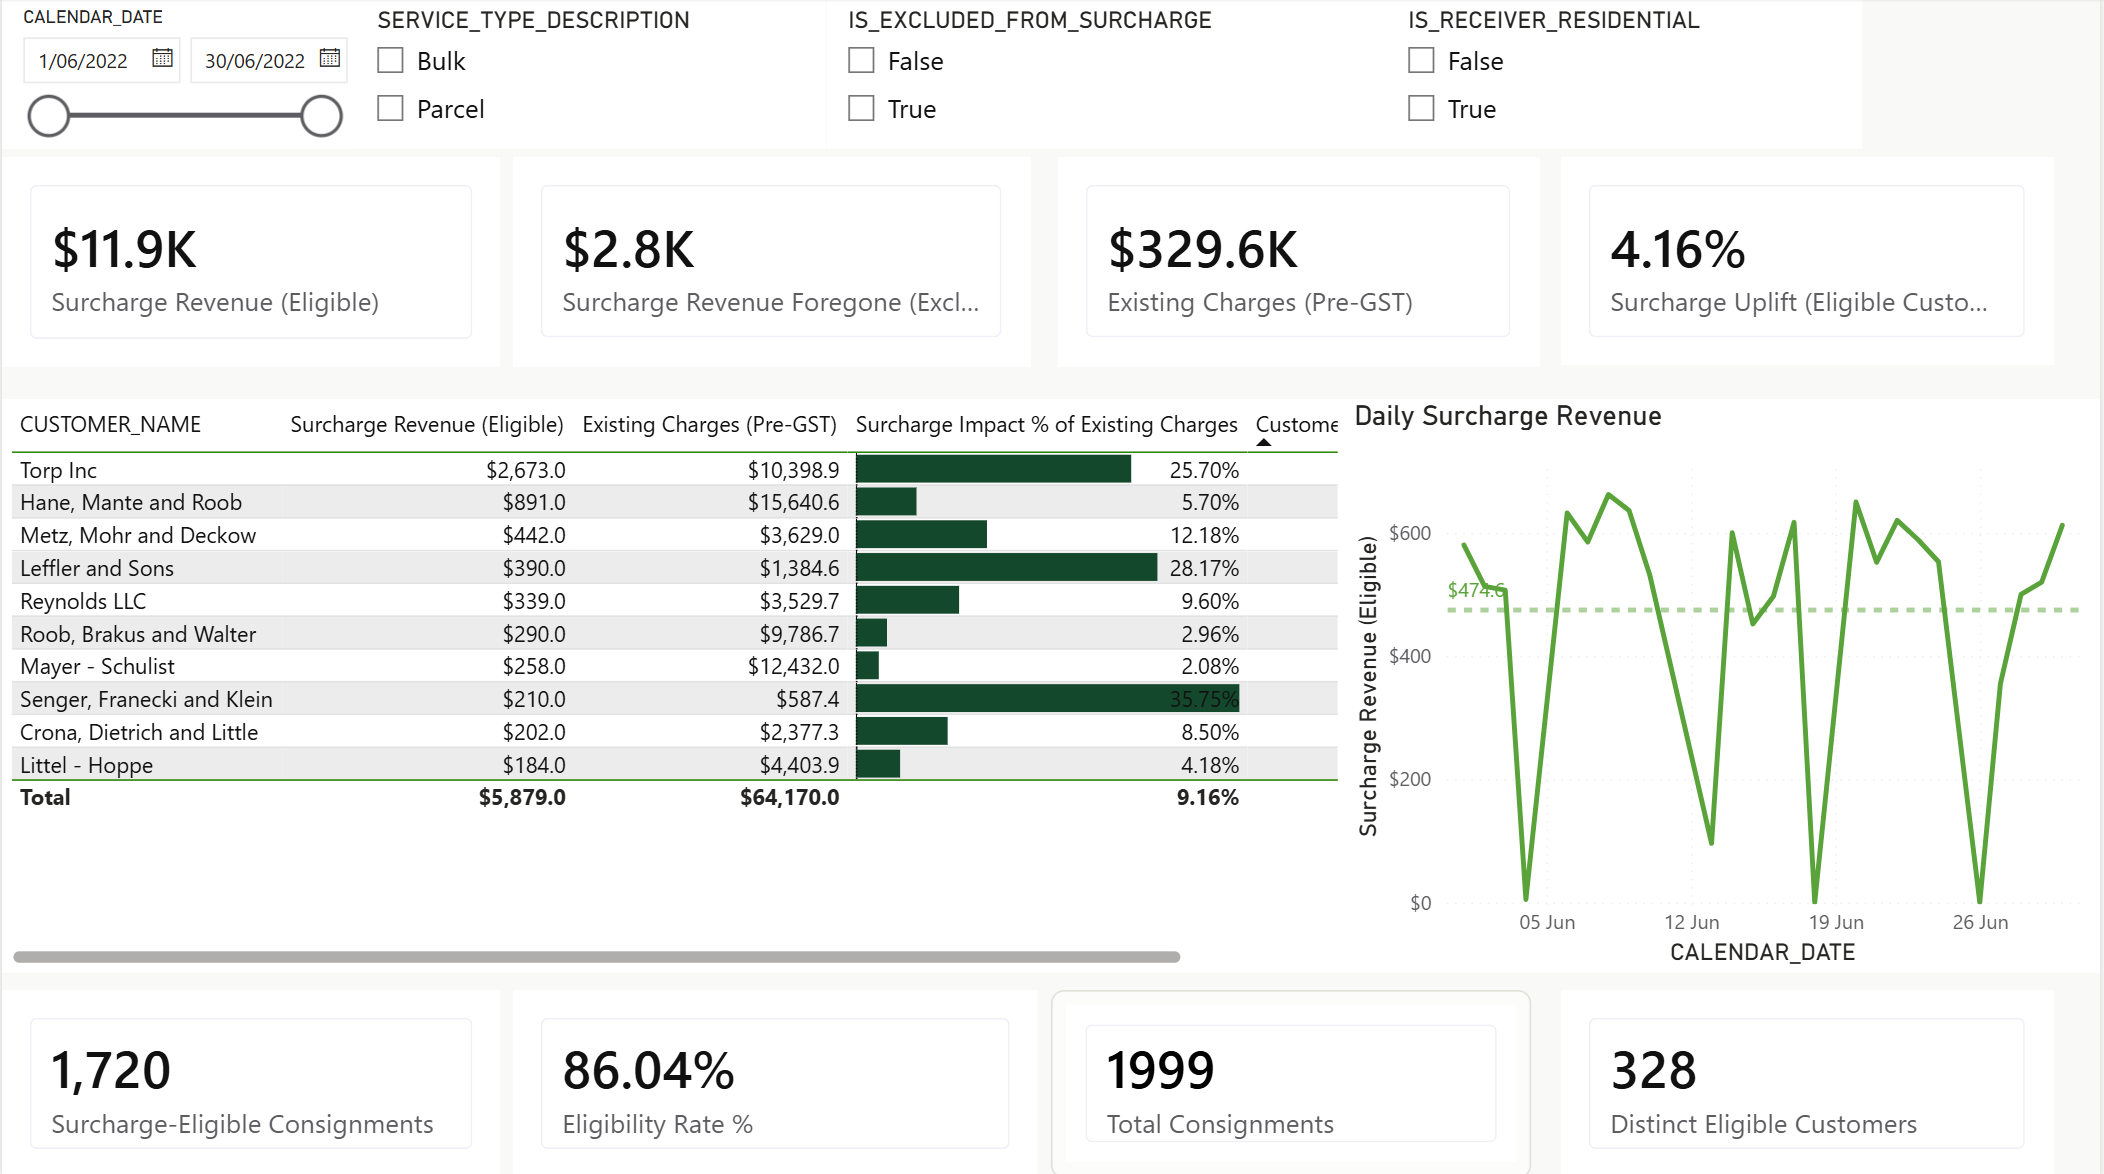

Layout of this report page (visuals, bound fields, positions):
{"tool":"powerbi","page":{"name":"Page 1","canvas":[1280,720],"ordinal":0},"visuals":[{"type":"cardVisual","fields":{"Data":["FCT_CONSIGNMENT_SURCHARGE.Surcharge Revenue (Eligible)"]},"box":[0,97,304.5,128.1],"z":0},{"type":"cardVisual","fields":{"Data":["FCT_CONSIGNMENT_SURCHARGE.Annual Revenue Foregone "]},"box":[311.8,97,315.7,127.9],"z":1000},{"type":"cardVisual","fields":{"Data":["FCT_CONSIGNMENT_SURCHARGE.Existing Charges (Pre-GST)"]},"box":[644.3,97,293.6,127.9],"z":2000},{"type":"cardVisual","fields":{"Data":["FCT_CONSIGNMENT_SURCHARGE.Surcharge Uplift %"]},"box":[951.3,97,300.7,127.1],"z":3000},{"type":"slicer","fields":{"Values":["DIM_DATE.CALENDAR_DATE"]},"box":[0,0,216,91.5],"z":4000},{"type":"slicer","fields":{"Values":["FCT_CONSIGNMENT_SURCHARGE.SERVICE_TYPE_DESCRIPTION"]},"box":[216,0,287.4,91.5],"z":5000},{"type":"slicer","fields":{"Values":["DIM_CUSTOMER.IS_EXCLUDED_FROM_SURCHARGE"]},"box":[503.4,0,341.7,91.5],"z":6000},{"type":"tableEx","fields":{"Values":["DIM_CUSTOMER.CUSTOMER_NAME","FCT_CONSIGNMENT_SURCHARGE.Surcharge Revenue (Eligible)","FCT_CONSIGNMENT_SURCHARGE.Existing Charges (Pre-GST)","FCT_CONSIGNMENT_SURCHARGE.Surcharge Impact % of Existing Charges","FCT_CONSIGNMENT_SURCHARGE.Customer Surcharge Rank"]},"box":[0,244.7,820.1,350.2],"z":8000},{"type":"cardVisual","fields":{"Data":["FCT_CONSIGNMENT_SURCHARGE.Total Consignments"]},"box":[640.1,605.3,293.5,114.7],"z":9000},{"type":"cardVisual","fields":{"Data":["FCT_CONSIGNMENT_SURCHARGE.Surcharge-Eligible Consignments"]},"box":[0,605.3,304.5,114.7],"z":10000},{"type":"cardVisual","fields":{"Data":["FCT_CONSIGNMENT_SURCHARGE.Eligibility Rate %"]},"box":[311.8,605.3,320.3,114.7],"z":11000},{"type":"cardVisual","fields":{"Data":["FCT_CONSIGNMENT_SURCHARGE.Distinct Eligible Customers"]},"box":[951.3,605.3,300.8,114.7],"z":12000},{"type":"slicer","fields":{"Values":["DIM_RECEIVER_LOCATION.IS_RECEIVER_RESIDENTIAL"]},"box":[845.6,0,204,91.4],"z":13000},{"type":"lineChart","title":"Daily Surcharge Revenue","fields":{"Category":["DIM_DATE.CALENDAR_DATE"],"Y":["FCT_CONSIGNMENT_SURCHARGE.Surcharge Revenue (Eligible)"]},"box":[820.1,244.7,460.1,350.2],"z":14000},{"type":"cardVisual","fields":{"Data":["FCT_CONSIGNMENT_SURCHARGE.Excluded Customers"]},"box":[1053.8,0,226.5,101.3],"z":14001}]}

Visuals, with their boxes in screenshot pixels (x1, y1, x2, y2), scaled from the page's 1280x720 canvas onto the 2104x1174 screenshot:
cardVisual - FCT_CONSIGNMENT_SURCHARGE.Surcharge Revenue (Eligible): crop(0, 158, 501, 367)
cardVisual - FCT_CONSIGNMENT_SURCHARGE.Annual Revenue Foregone : crop(513, 158, 1031, 367)
cardVisual - FCT_CONSIGNMENT_SURCHARGE.Existing Charges (Pre-GST): crop(1059, 158, 1542, 367)
cardVisual - FCT_CONSIGNMENT_SURCHARGE.Surcharge Uplift %: crop(1564, 158, 2058, 365)
slicer - DIM_DATE.CALENDAR_DATE: crop(0, 0, 355, 149)
slicer - FCT_CONSIGNMENT_SURCHARGE.SERVICE_TYPE_DESCRIPTION: crop(355, 0, 827, 149)
slicer - DIM_CUSTOMER.IS_EXCLUDED_FROM_SURCHARGE: crop(827, 0, 1389, 149)
tableEx - DIM_CUSTOMER.CUSTOMER_NAME x FCT_CONSIGNMENT_SURCHARGE.Surcharge Revenue (Eligible): crop(0, 399, 1348, 970)
cardVisual - FCT_CONSIGNMENT_SURCHARGE.Total Consignments: crop(1052, 987, 1535, 1173)
cardVisual - FCT_CONSIGNMENT_SURCHARGE.Surcharge-Eligible Consignments: crop(0, 987, 501, 1173)
cardVisual - FCT_CONSIGNMENT_SURCHARGE.Eligibility Rate %: crop(513, 987, 1039, 1173)
cardVisual - FCT_CONSIGNMENT_SURCHARGE.Distinct Eligible Customers: crop(1564, 987, 2058, 1173)
slicer - DIM_RECEIVER_LOCATION.IS_RECEIVER_RESIDENTIAL: crop(1390, 0, 1725, 149)
"Daily Surcharge Revenue" lineChart: crop(1348, 399, 2103, 970)
cardVisual - FCT_CONSIGNMENT_SURCHARGE.Excluded Customers: crop(1732, 0, 2103, 165)
